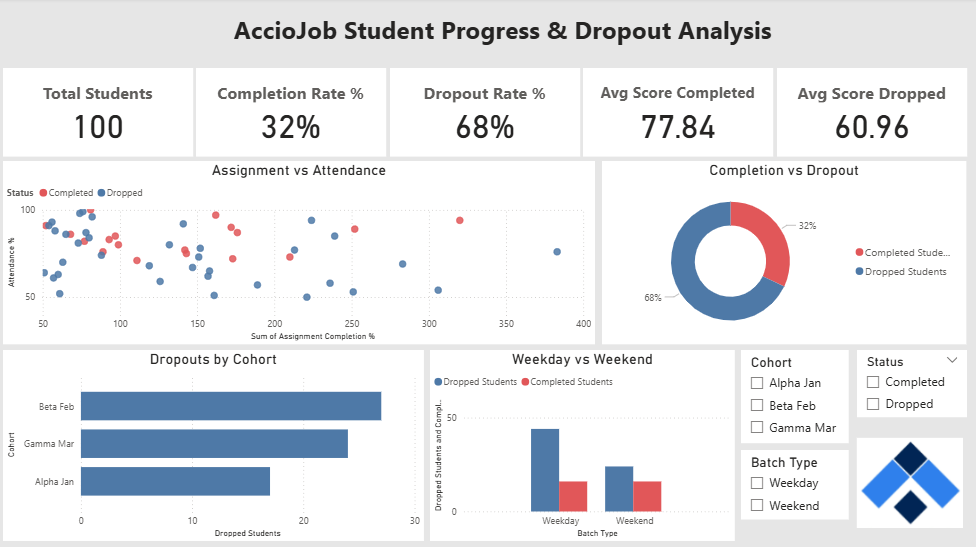

The page's visual inventory and layout, read from the dashboard file:
{"tool":"powerbi","page":{"name":"Dashboard","canvas":[1280,720],"ordinal":0},"visuals":[{"type":"cardVisual","fields":{"Data":["Calculate Measure.Total Students"]},"box":[5.9,91.3,248.9,116.4],"z":0},{"type":"cardVisual","fields":{"Data":["Calculate Measure.Completion Rate %"]},"box":[259.2,91.3,248.9,116.4],"z":1000},{"type":"cardVisual","fields":{"Data":["Calculate Measure.Dropout Rate %"]},"box":[512.6,91.3,248.9,116.4],"z":2000},{"type":"cardVisual","fields":{"Data":["Calculate Measure.Avg Score Completed"]},"box":[765.9,91.3,248.9,116.4],"z":3000},{"type":"scatterChart","title":"Assignment vs Attendance","fields":{"Y":["AccioJob Student progress report.Attendance %"],"X":["Sum(AccioJob Student progress report.Assignment Completion %)"],"Series":["AccioJob Student progress report.Status"]},"box":[5.9,213.6,774.8,240.1],"z":4000},{"type":"donutChart","title":"Completion vs Dropout","fields":{"Y":["Calculate Measure.Completed Students","Calculate Measure.Dropped Students"]},"box":[791,213.6,477.2,240.1],"z":5000},{"type":"barChart","title":"Dropouts by Cohort","fields":{"Y":["Calculate Measure.Dropped Students"],"Category":["AccioJob Student progress report.Cohort"]},"box":[5.9,461,550.9,250.4],"z":6000},{"type":"clusteredColumnChart","title":"Weekday vs Weekend ","fields":{"Category":["AccioJob Student progress report.Batch Type"],"Y":["Calculate Measure.Dropped Students","Calculate Measure.Completed Students"]},"box":[565.6,461,399.2,250.4],"z":7000},{"type":"textbox","box":[303.4,13.3,724.7,64.8],"z":8000},{"type":"slicer","fields":{"Values":["AccioJob Student progress report.Cohort"]},"box":[972.2,461,141.4,122.3],"z":9000},{"type":"slicer","fields":{"Values":["AccioJob Student progress report.Batch Type"]},"box":[972.2,592.1,141.4,91.3],"z":10000},{"type":"cardVisual","fields":{"Data":["Calculate Measure.Avg Score Dropped"]},"box":[1019.3,91.3,248.9,116.4],"z":11000},{"type":"slicer","fields":{"Values":["AccioJob Student progress report.Status"]},"box":[1123.9,461,144.3,88.4],"z":12000},{"type":"image","box":[1119.4,549.4,148.8,170.9],"z":13000}]}

Visuals, with their boxes in screenshot pixels (x1, y1, x2, y2), scaled from the page's 1280x720 canvas onto the 976x547 screenshot:
cardVisual - Calculate Measure.Total Students: <bbox>4, 69, 194, 158</bbox>
cardVisual - Calculate Measure.Completion Rate %: <bbox>198, 69, 387, 158</bbox>
cardVisual - Calculate Measure.Dropout Rate %: <bbox>391, 69, 581, 158</bbox>
cardVisual - Calculate Measure.Avg Score Completed: <bbox>584, 69, 774, 158</bbox>
"Assignment vs Attendance" scatterChart: <bbox>4, 162, 595, 345</bbox>
"Completion vs Dropout" donutChart: <bbox>603, 162, 967, 345</bbox>
"Dropouts by Cohort" barChart: <bbox>4, 350, 425, 540</bbox>
"Weekday vs Weekend " clusteredColumnChart: <bbox>431, 350, 736, 540</bbox>
textbox: <bbox>231, 10, 784, 59</bbox>
slicer - AccioJob Student progress report.Cohort: <bbox>741, 350, 849, 443</bbox>
slicer - AccioJob Student progress report.Batch Type: <bbox>741, 450, 849, 519</bbox>
cardVisual - Calculate Measure.Avg Score Dropped: <bbox>777, 69, 967, 158</bbox>
slicer - AccioJob Student progress report.Status: <bbox>857, 350, 967, 417</bbox>
image: <bbox>854, 417, 967, 546</bbox>
